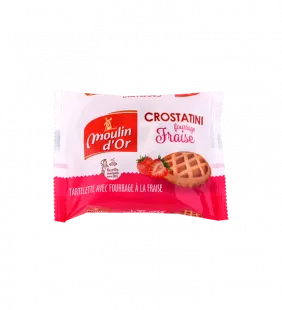MOULIN D'OR: (43, 82, 237, 229)
